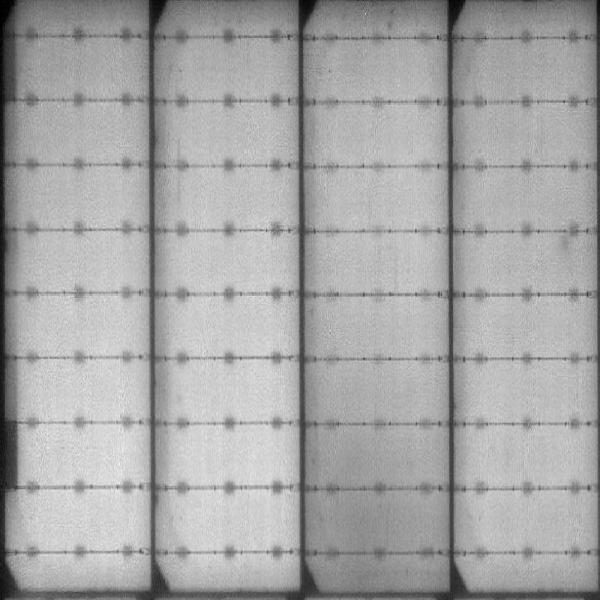black_border: (1, 27, 21, 108), (5, 421, 22, 500)
